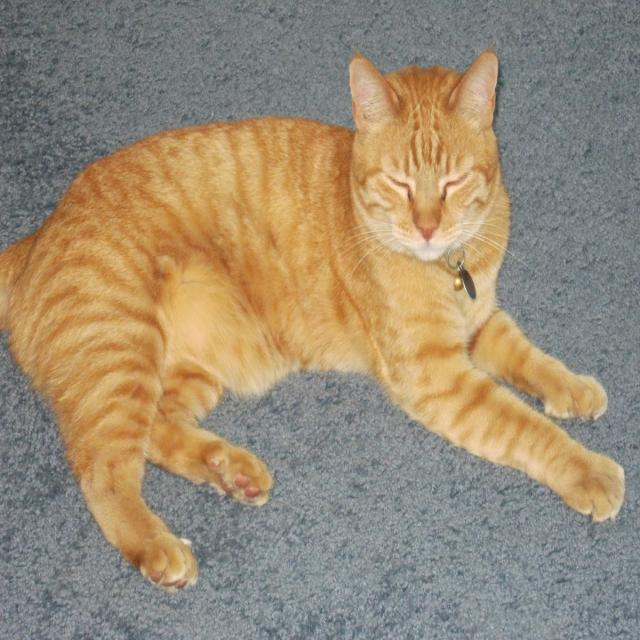sarman: (0, 50, 624, 592)
